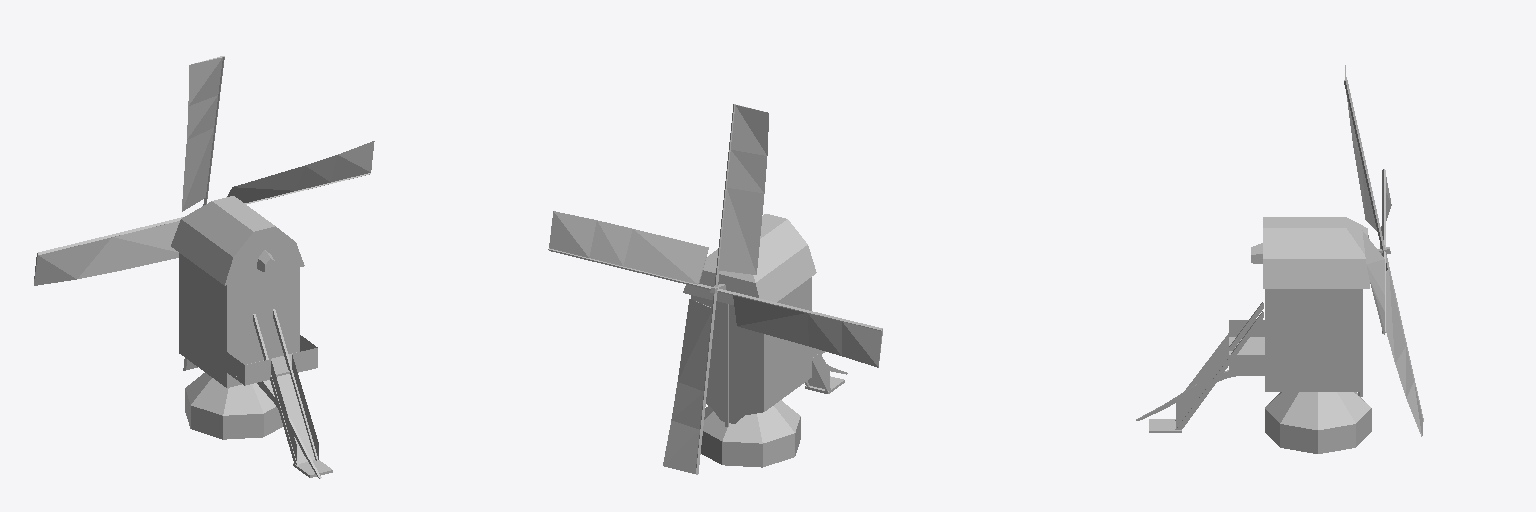
File: standardmolen.obj
3 views of the same model, side by side, from view 1: azimuth 30°, elevation 25°; view 2: azimuth 150°, elevation 25°; view 3: azimuth 270°, elevation 25° (orthographic).
Parts seen in each view (by area): view 1: standardmolen; view 2: standardmolen; view 3: standardmolen.
Part boxes in pixels (left/top/right/bottom): standardmolen: left=34, top=56, right=374, bottom=478; standardmolen: left=548, top=104, right=882, bottom=474; standardmolen: left=1136, top=65, right=1423, bottom=453.
Bounding box in the file's own units: 11.68 × 11.78 × 8.76.